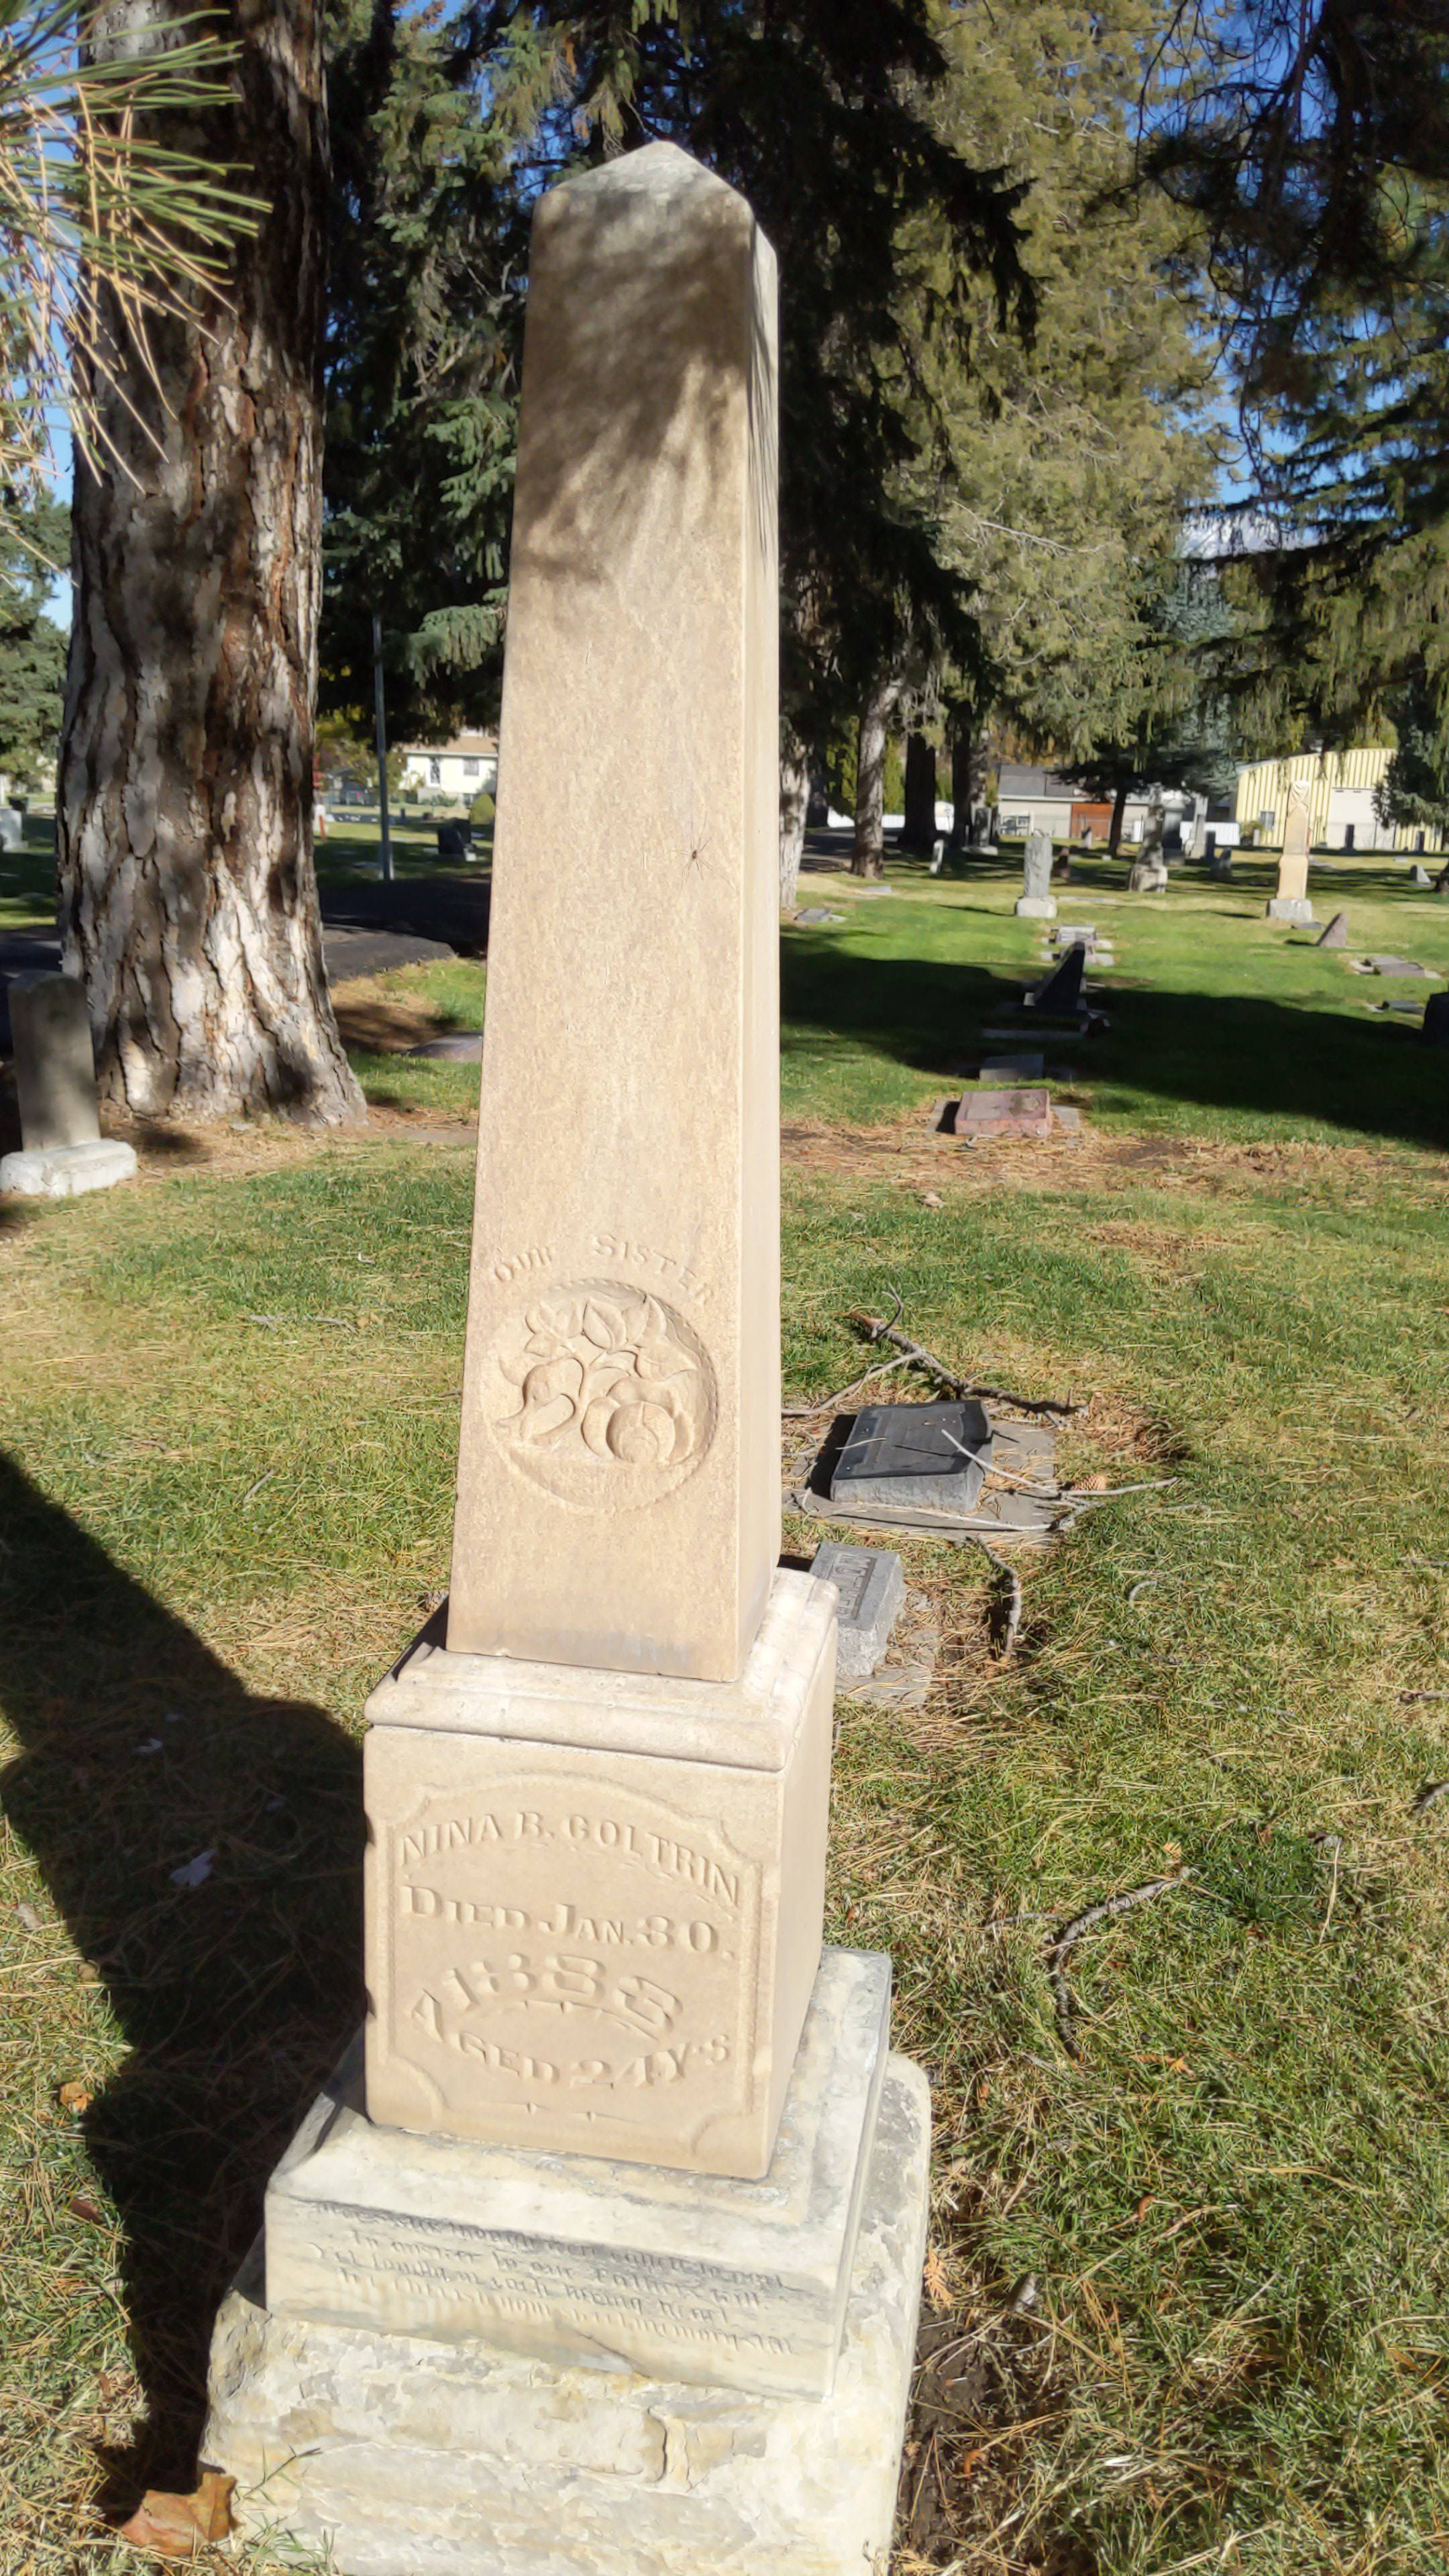obelisk: (363, 152, 844, 2187)
